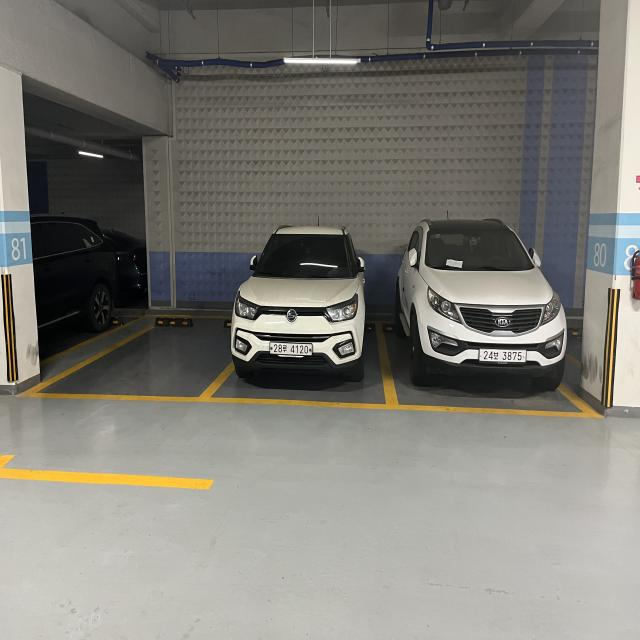empty: (33, 321, 235, 398)
occupied: (378, 207, 587, 412), (211, 228, 395, 406)
